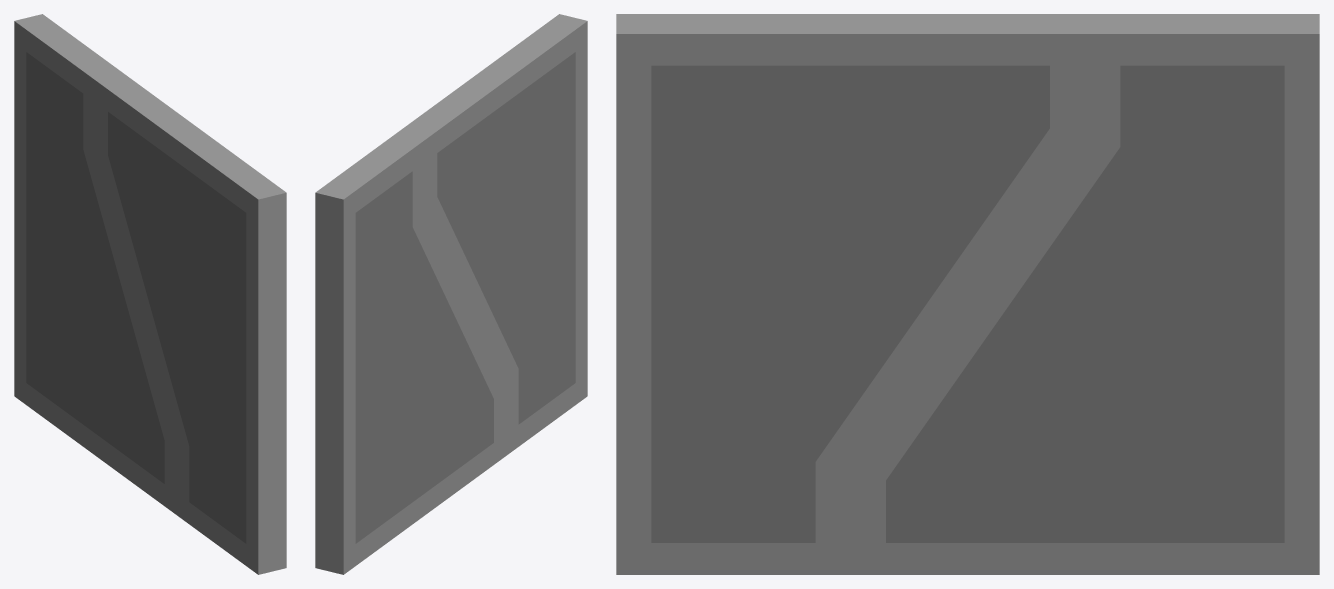
The model's file is Elevator_Door_Open.fbx.
3 views of the same model, side by side, from view 1: azimuth 30°, elevation 25°; view 2: azimuth 150°, elevation 25°; view 3: azimuth 270°, elevation 25° (orthographic). The views are drawn at different scales.
Parts seen in each view (by area): view 1: Elevator_Door; view 2: Elevator_Door; view 3: Elevator_Door.
Part boxes in pixels (x1,y1,x2,y2): Elevator_Door: (14, 14, 286, 574); Elevator_Door: (315, 14, 587, 574); Elevator_Door: (616, 14, 1319, 574).
Size of the model in its own units: 13.41 by 170 by 200.
